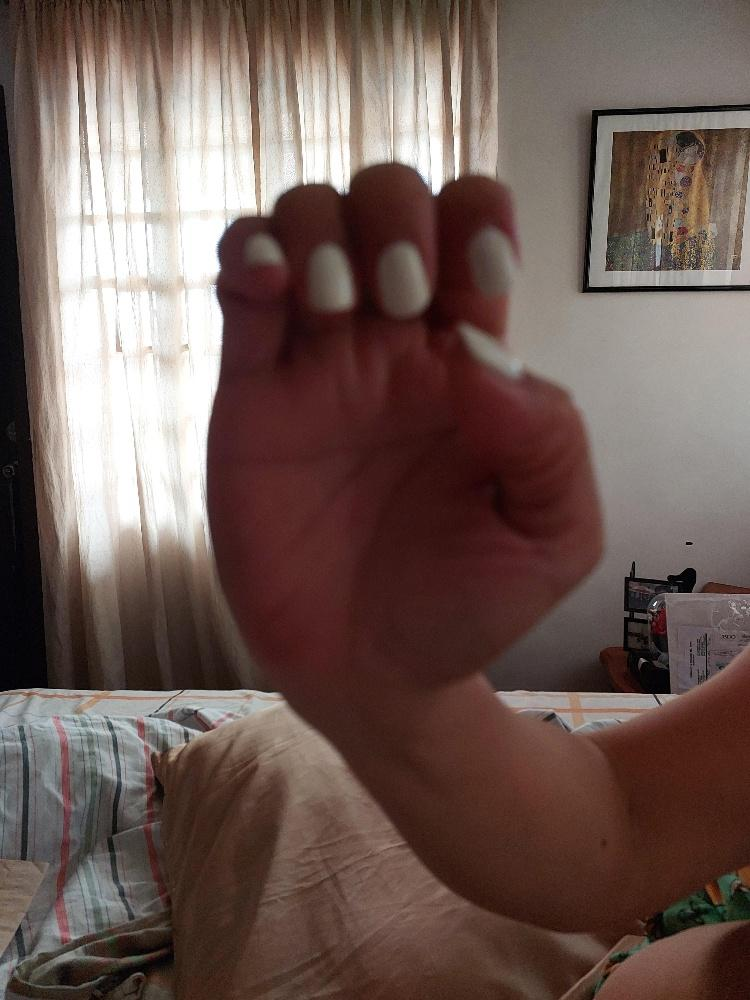e: (201, 155, 608, 694)
